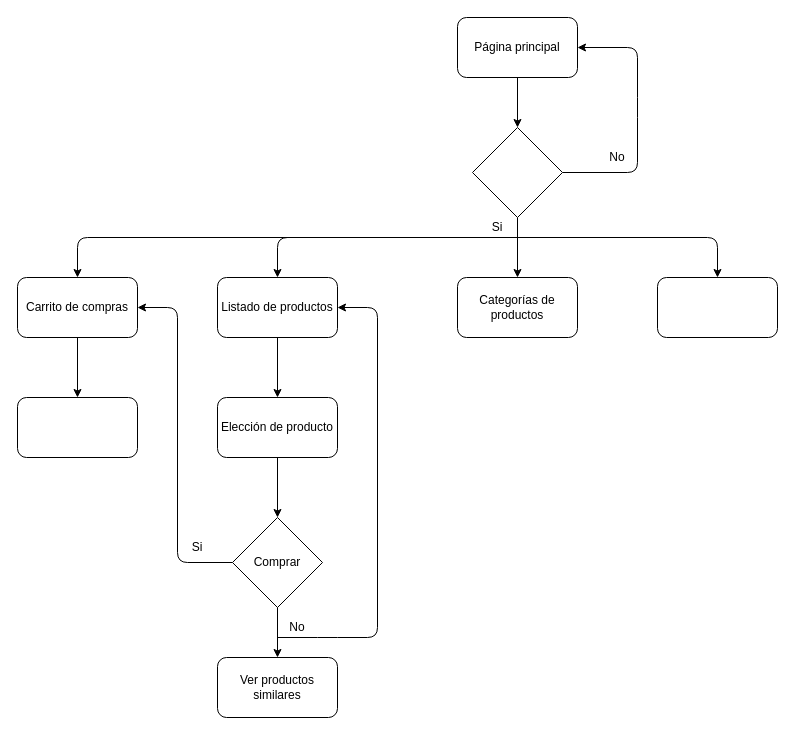
This 795x735 diagram has some shape labels left out. The box of each missing label's shape, as (x1, y1, x2, y2) in pixels:
Ingreso datos y medio de pago: (16, 396, 138, 458)
Ingreso login usuario: (472, 126, 562, 218)
Vender: (656, 276, 778, 338)
